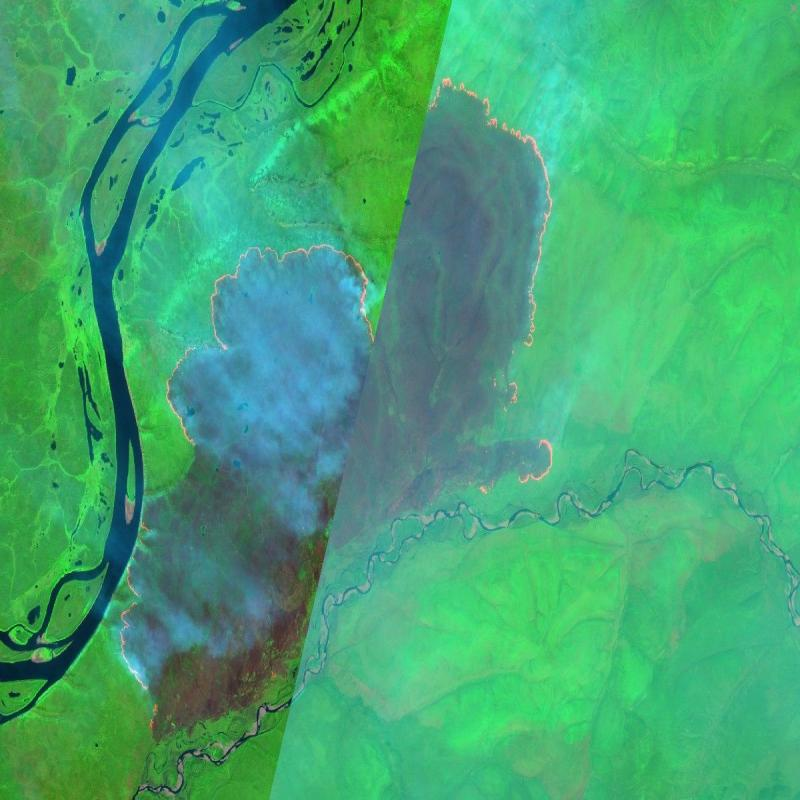fire: (106, 69, 561, 728)
